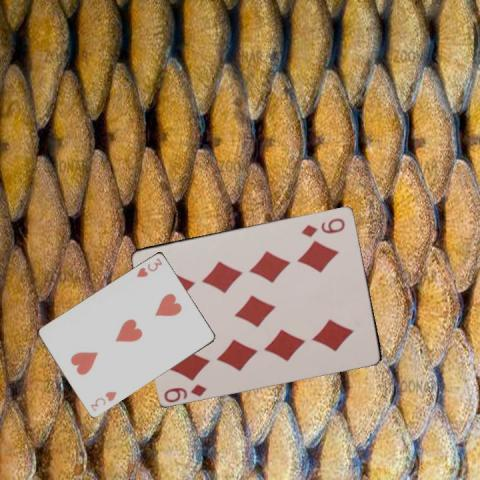3h: (133, 255, 164, 280), (87, 388, 118, 412)
9d: (298, 215, 346, 238), (161, 381, 209, 403)
